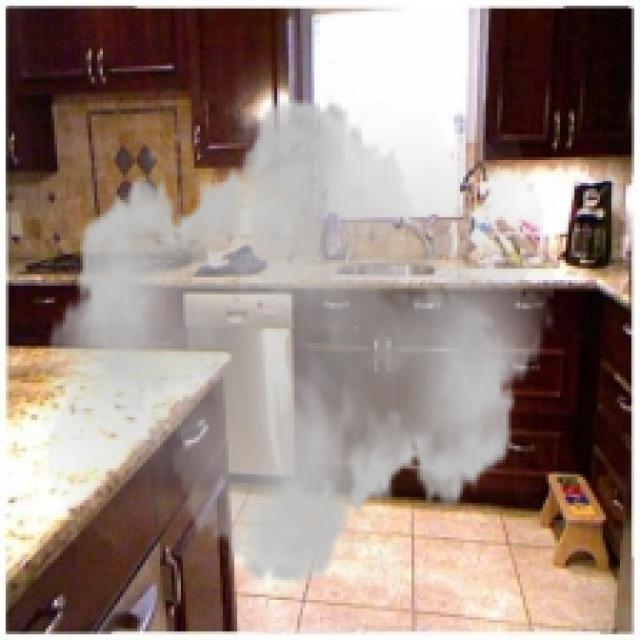smoke: (37, 77, 554, 606)
